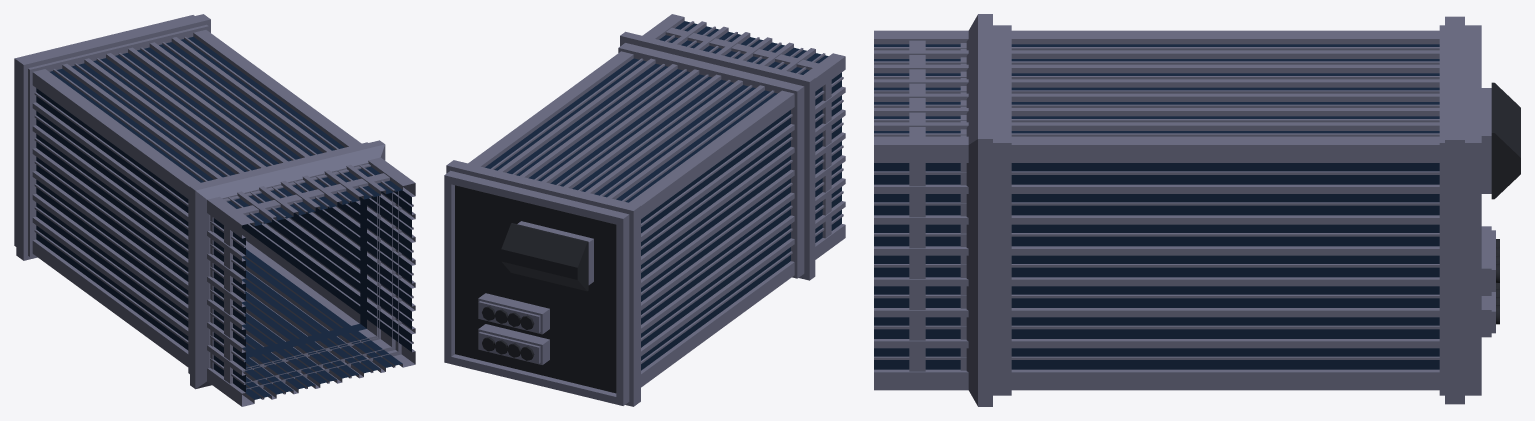
The model's file is Skyscr_01_D.dae.
The picture shows the model from 3 angles, left to right: view 1: azimuth 30°, elevation 25°; view 2: azimuth 150°, elevation 25°; view 3: azimuth 270°, elevation 25°; orthographic projection. The views are drawn at different scales.
Visible parts, largest first — view 1: Skyscr_01_D; view 2: Skyscr_01_D; view 3: Skyscr_01_D.
Part boxes in pixels (<box>): Skyscr_01_D: <box>14,14,415,406</box>; Skyscr_01_D: <box>444,14,845,406</box>; Skyscr_01_D: <box>874,14,1520,406</box>.
Bounding box in the file's own units: 0.3722 × 0.8139 × 0.3722.
